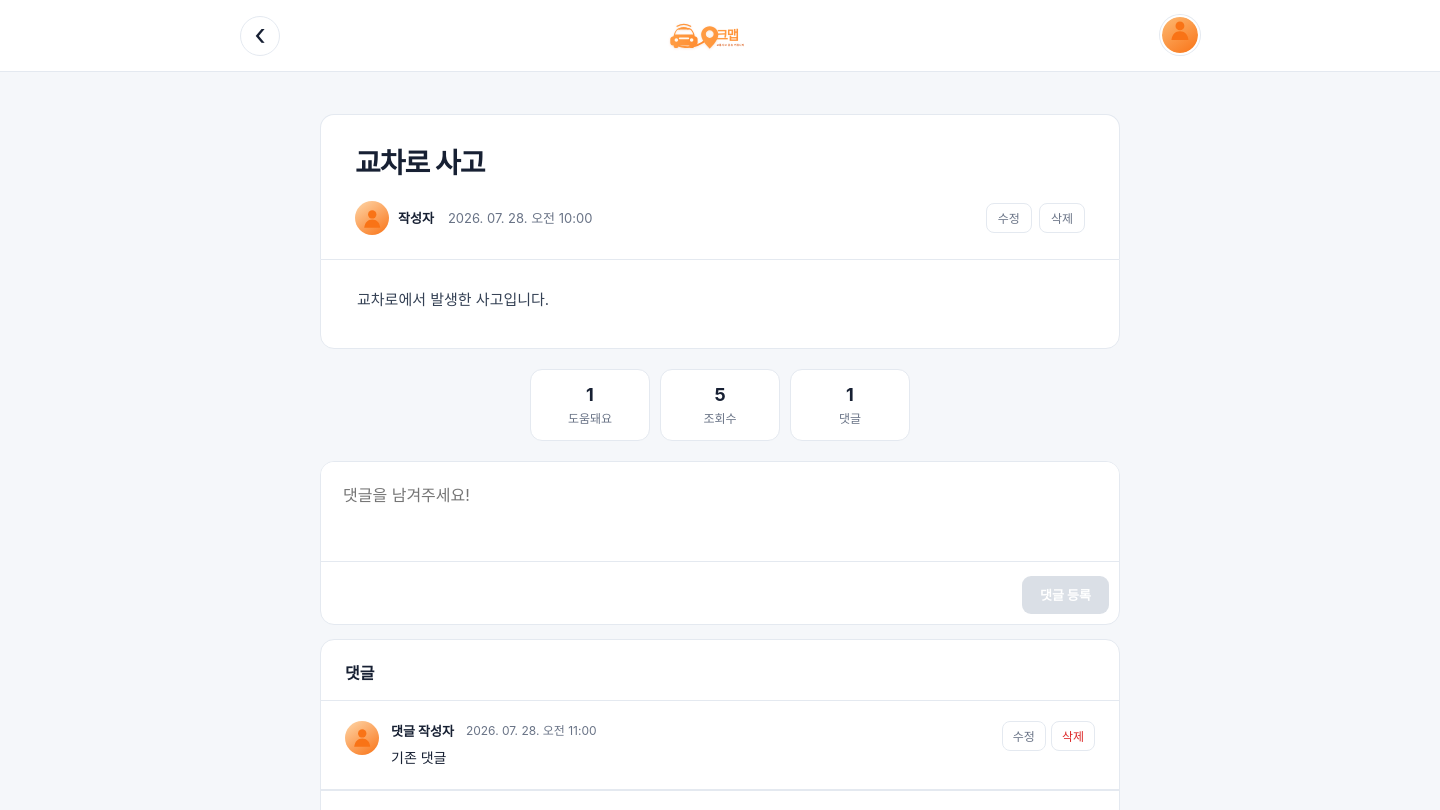
Test case: BoardDetailPage › 인증 사용자의 좋아요 결과를 서버 응답 값으로 교체한다
Expected: the heading "교차로 사고" is shown, [355, 146, 485, 180]
Click the button "1 도움돼요": (590, 404) [530, 368, 650, 440]
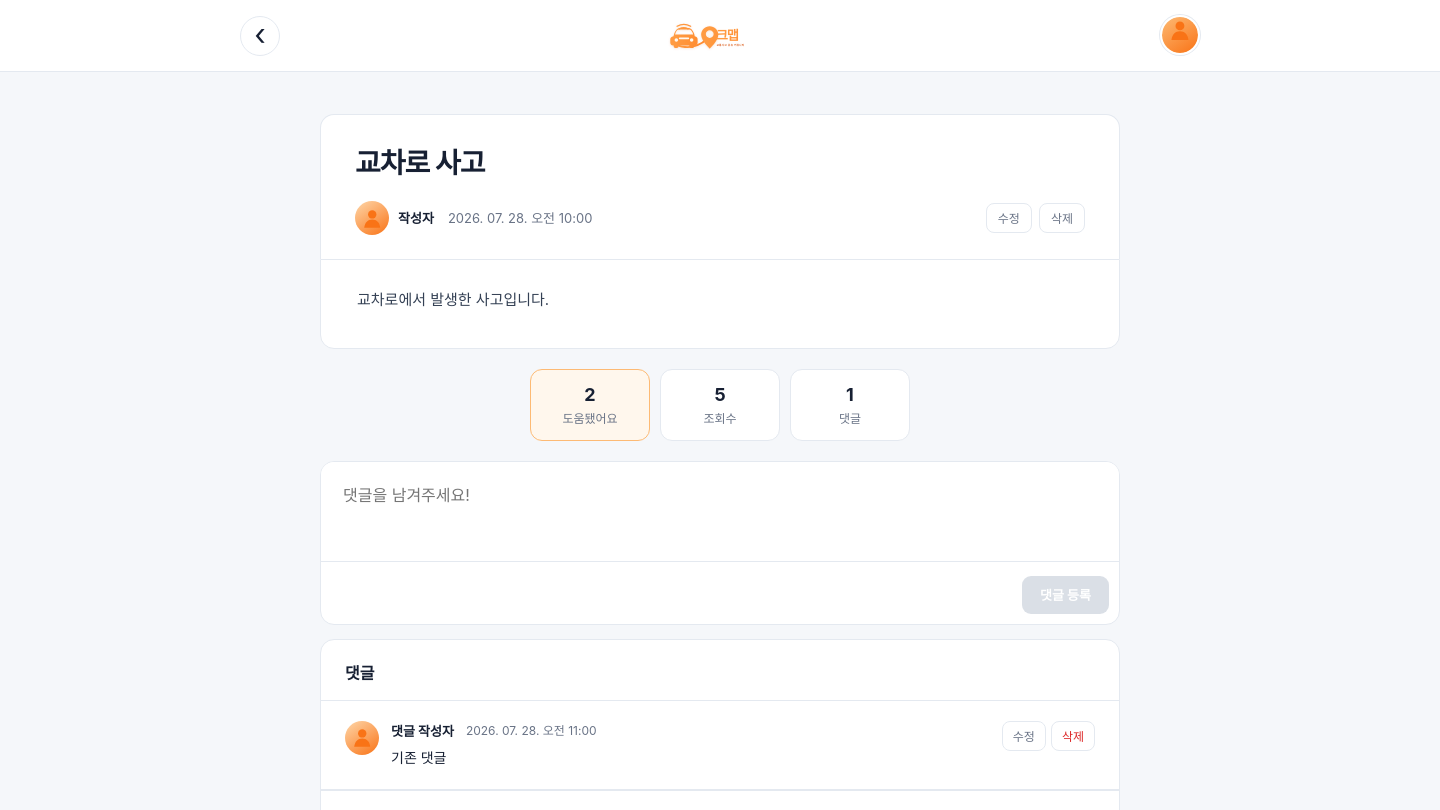
Expected: the button named "도움돼요" shows "2", [530, 368, 650, 440]
